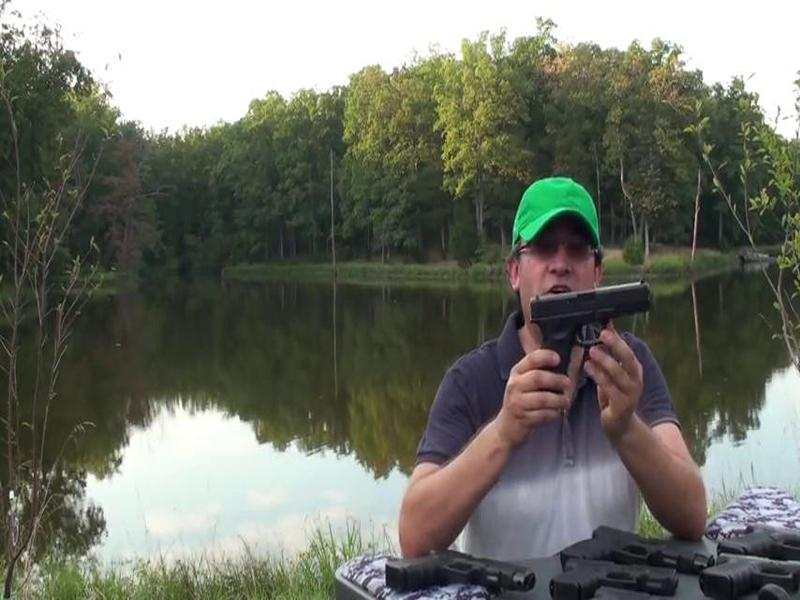Pistola: (518, 269, 666, 390), (376, 534, 535, 600), (547, 550, 678, 600)
